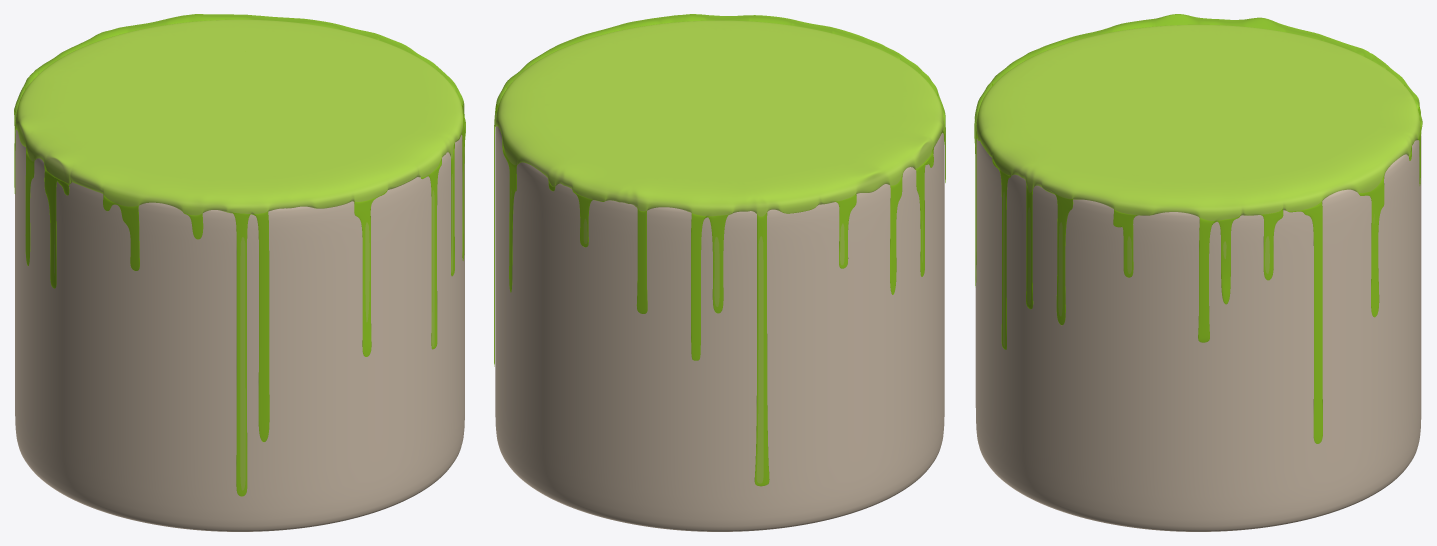
Rendered from Cake_Layer_1_Cream_GreenDrip.glb.
The picture shows the model from 3 angles, left to right: view 1: azimuth 30°, elevation 25°; view 2: azimuth 150°, elevation 25°; view 3: azimuth 270°, elevation 25°; orthographic projection.
Parts seen in each view (by area): view 1: Circle, Circle.001; view 2: Circle, Circle.001; view 3: Circle, Circle.001.
Part boxes in pixels (x1=…): Circle: x1=15, y1=20, x2=464, y2=531; Circle.001: x1=14, y1=14, x2=465, y2=496; Circle: x1=495, y1=20, x2=944, y2=531; Circle.001: x1=494, y1=14, x2=945, y2=486; Circle: x1=975, y1=25, x2=1421, y2=531; Circle.001: x1=974, y1=14, x2=1422, y2=443.
Size of the model in its own units: 0.1501 by 0.1237 by 0.1499.
